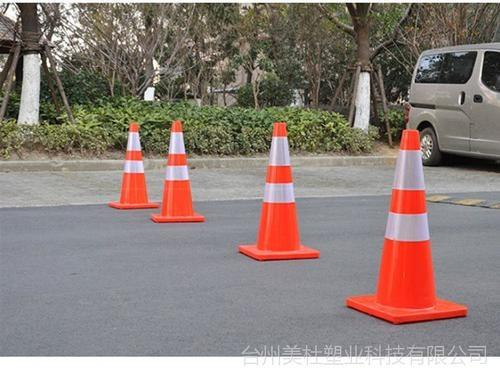cone_barrel: (354, 134, 455, 320), (238, 124, 316, 259), (150, 117, 202, 222), (109, 123, 152, 208)
